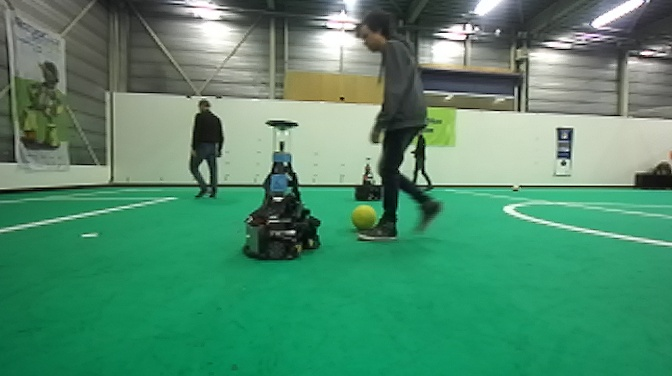ball: (352, 203, 377, 232), (509, 181, 523, 194)
human: (353, 10, 444, 244), (186, 97, 225, 200), (408, 126, 436, 192)
robot: (239, 119, 324, 262), (353, 154, 385, 204)
